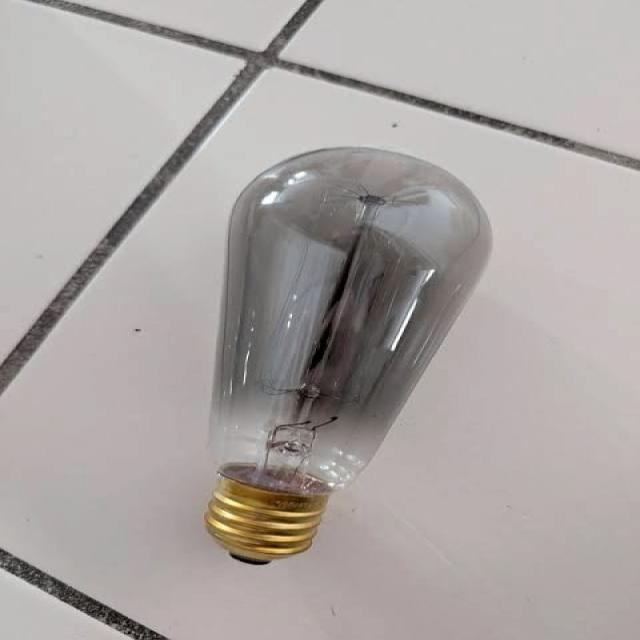bulb: (218, 141, 458, 570)
